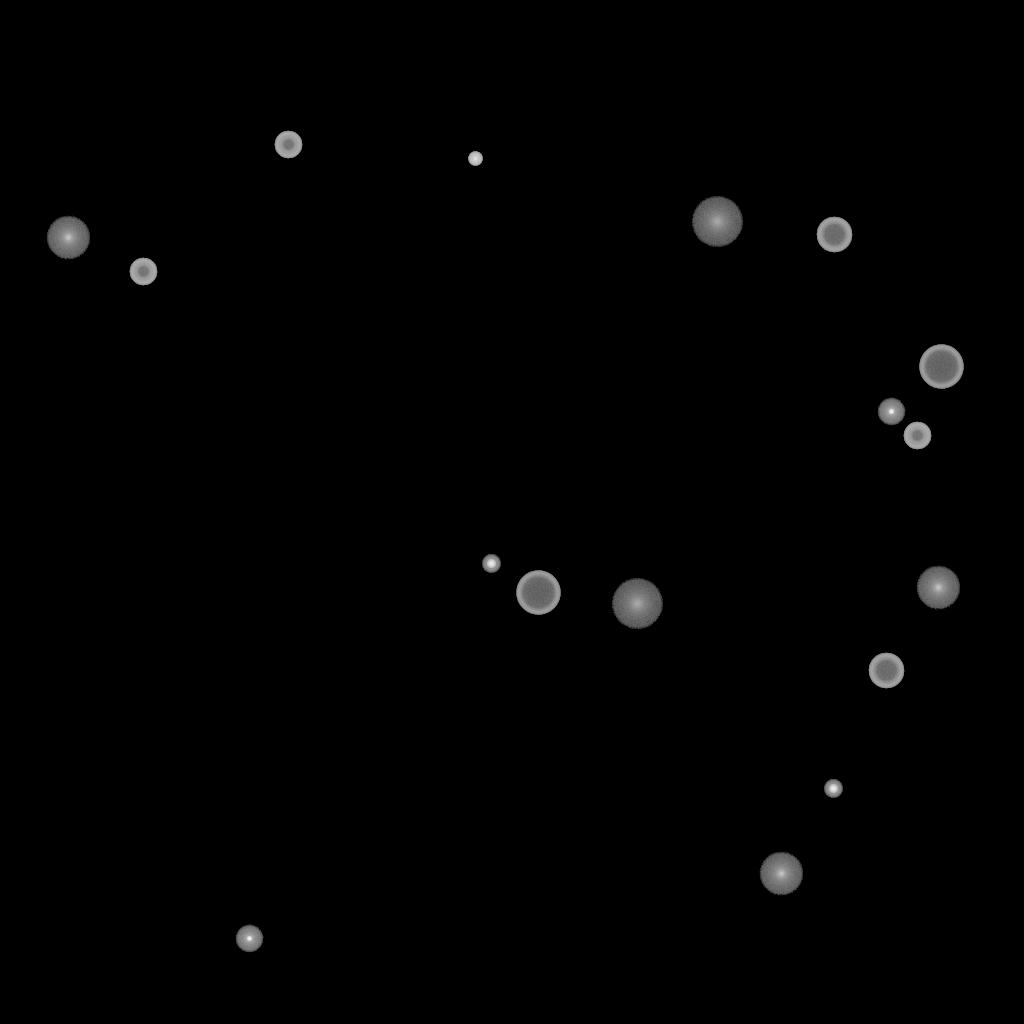depth:-10: (235, 925, 263, 953), (877, 398, 905, 426)
depth:-20: (482, 555, 500, 573), (824, 780, 842, 798)
depth:-30: (468, 152, 482, 166)
depth:-50: (129, 258, 157, 286), (903, 422, 931, 450), (274, 131, 302, 159)
depth:-60: (868, 653, 904, 689), (816, 217, 852, 253)
depth:-70: (919, 345, 963, 389), (516, 571, 560, 615)
depth:10: (759, 852, 803, 896), (46, 216, 90, 260), (916, 566, 960, 610)
depth:20: (611, 579, 663, 629), (691, 197, 743, 247)
